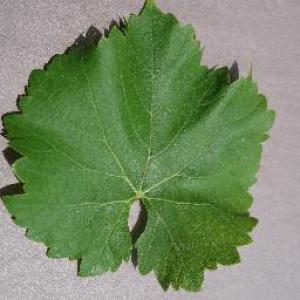Folha: (0, 0, 275, 292)
